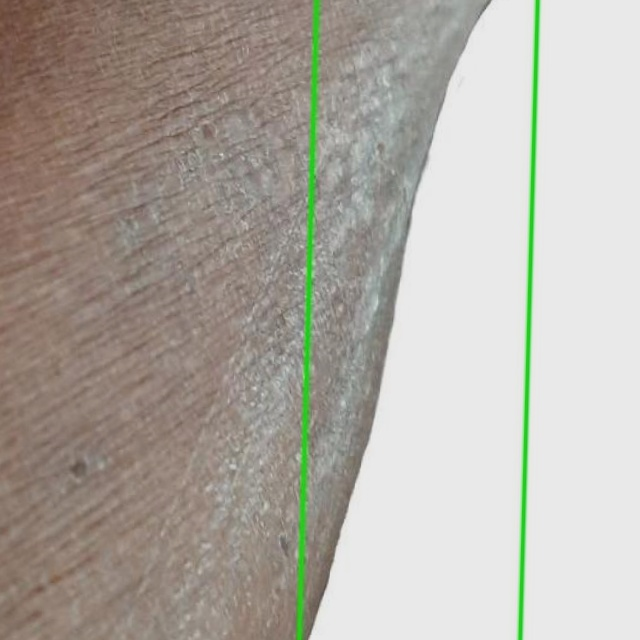Eczema: (0, 0, 537, 639), (299, 0, 639, 639)
